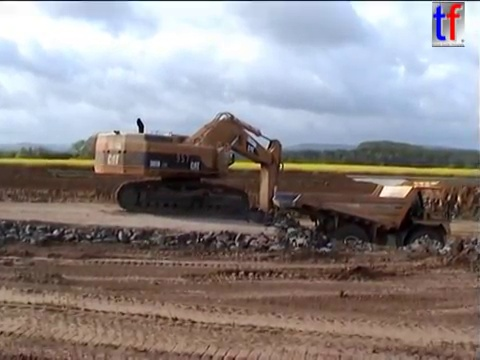excavator: (91, 110, 291, 243)
truck: (271, 178, 460, 271)
